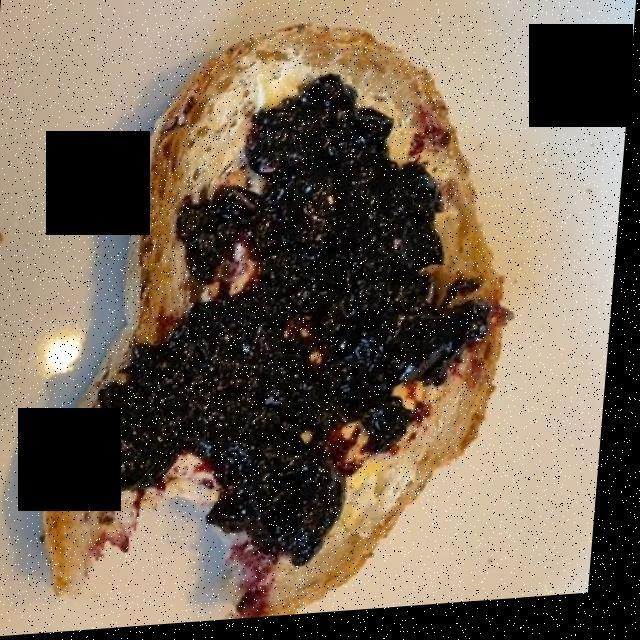bread: (67, 31, 514, 612)
jam: (61, 92, 504, 570)
